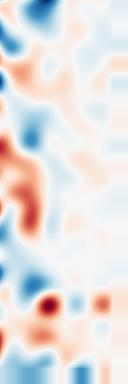filament: (10, 168, 52, 243)
